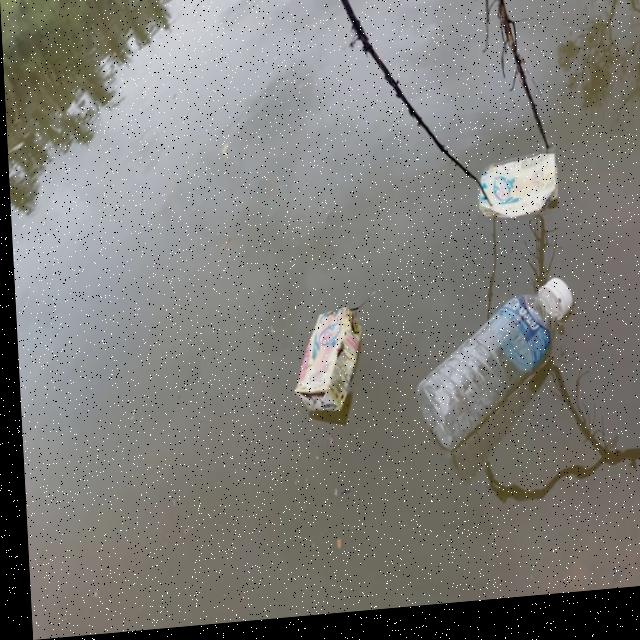paper: (284, 286, 362, 428), (448, 161, 581, 232)
waterbottle: (408, 267, 571, 443)
